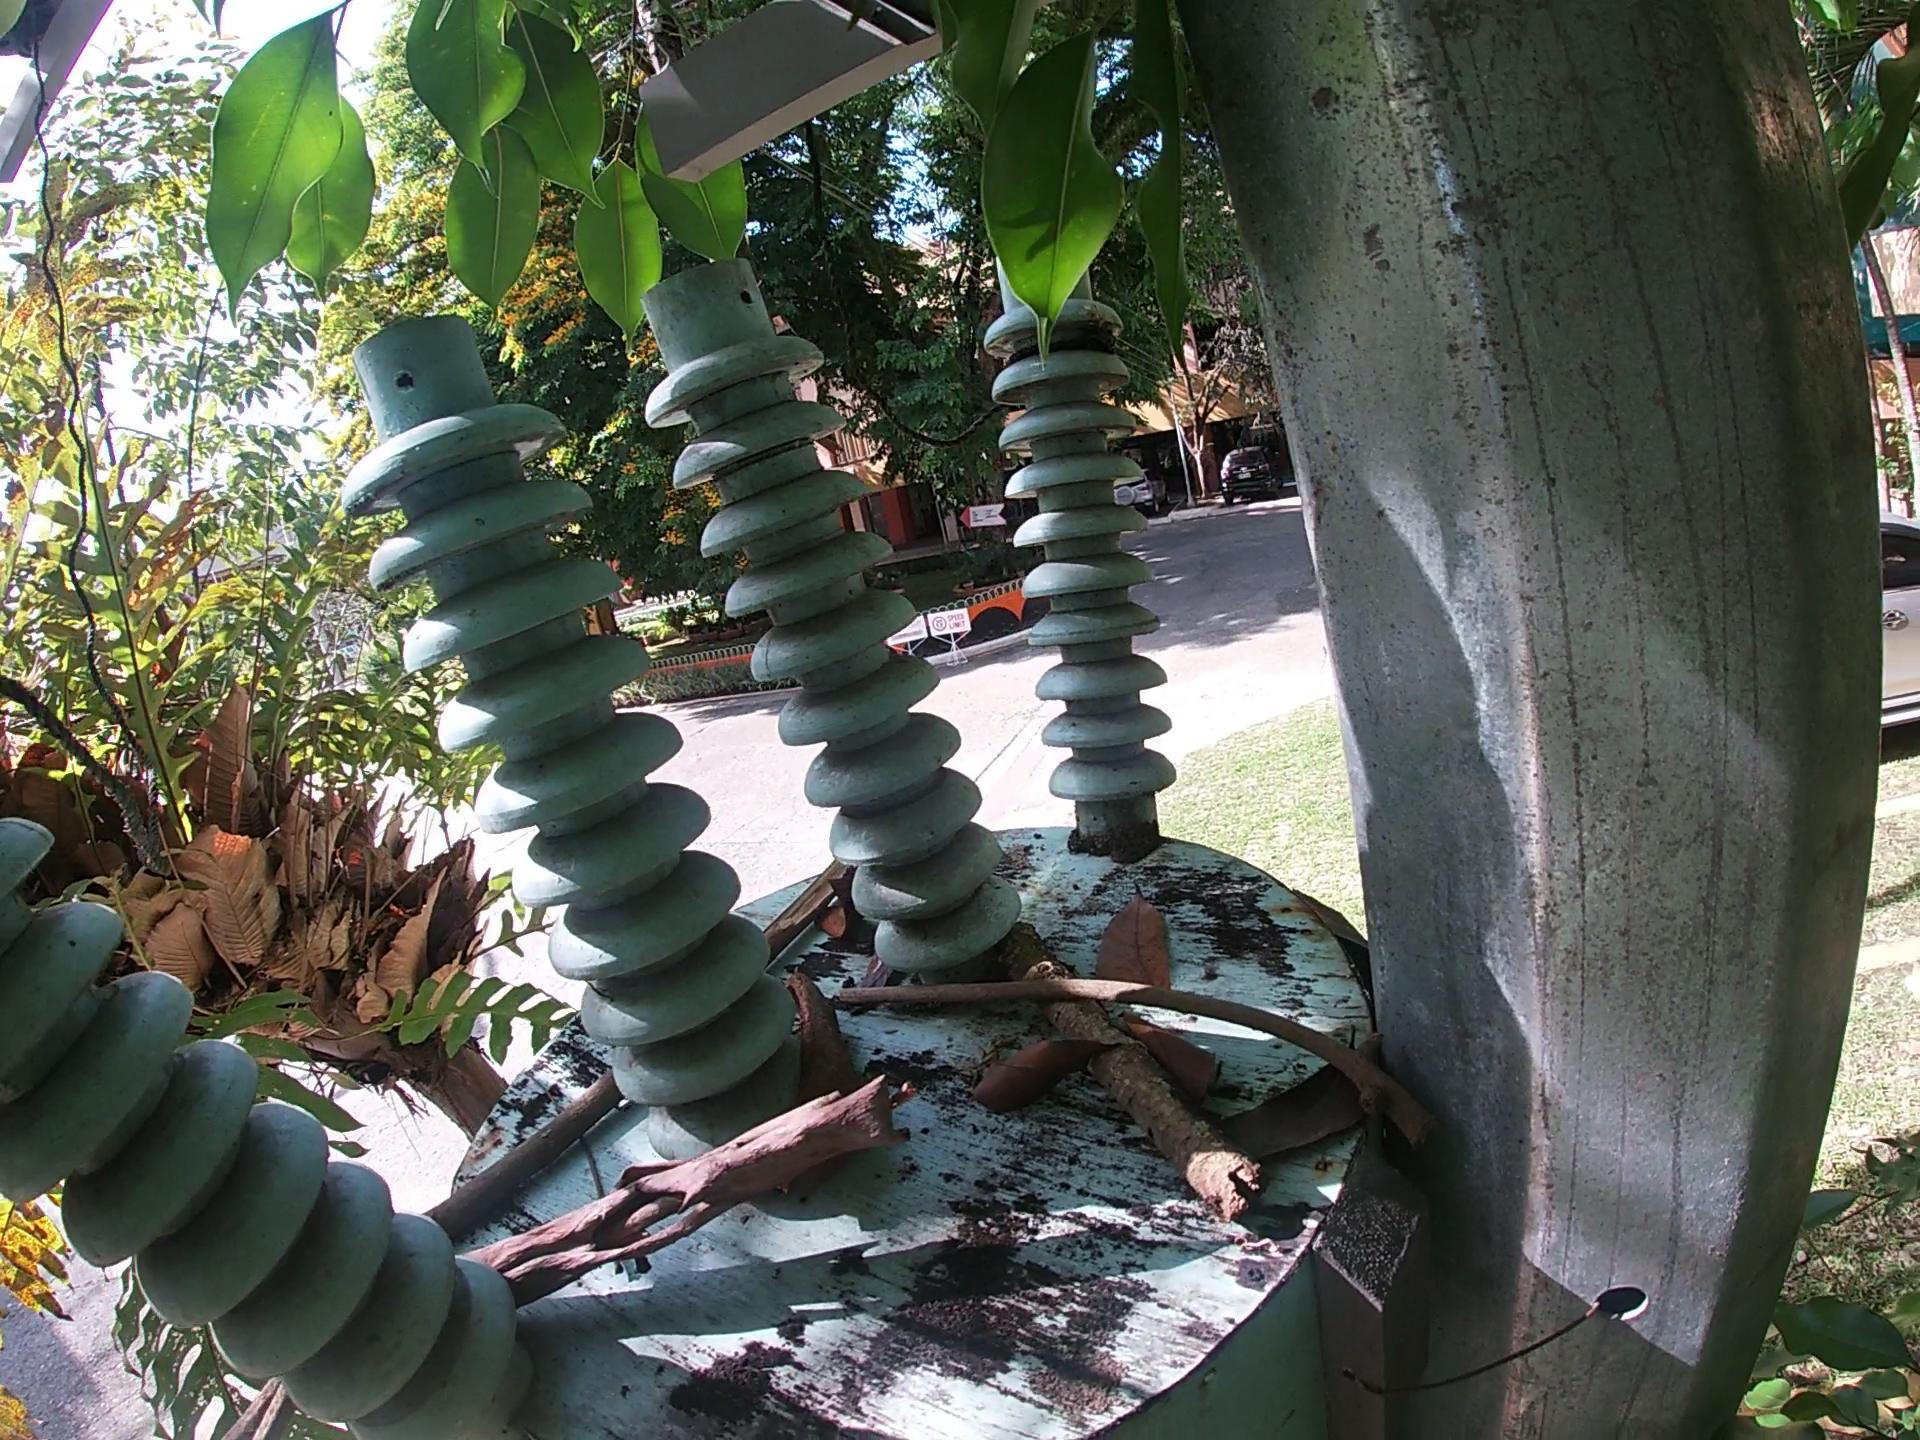leaf: (1215, 1021, 1371, 1172), (966, 1026, 1138, 1122), (1089, 874, 1184, 998), (1125, 1012, 1225, 1116)
mahogany fruit: (785, 965, 863, 1203), (809, 870, 868, 944)
tree branch: (458, 1066, 921, 1304), (831, 973, 1448, 1147), (989, 920, 1268, 1224), (414, 1066, 639, 1242), (763, 852, 854, 967)
